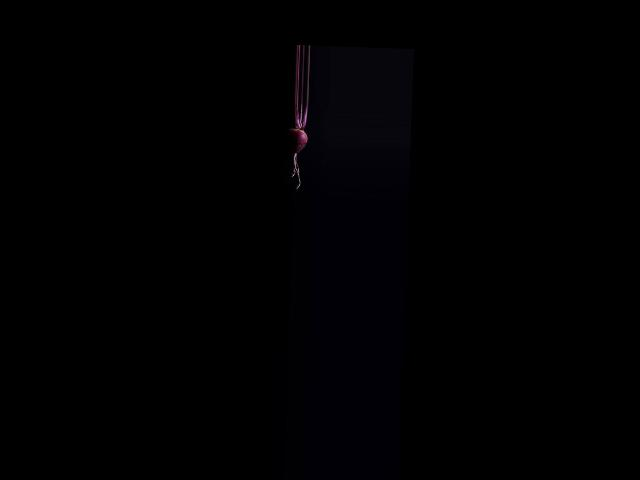beet: (283, 103, 310, 189)
